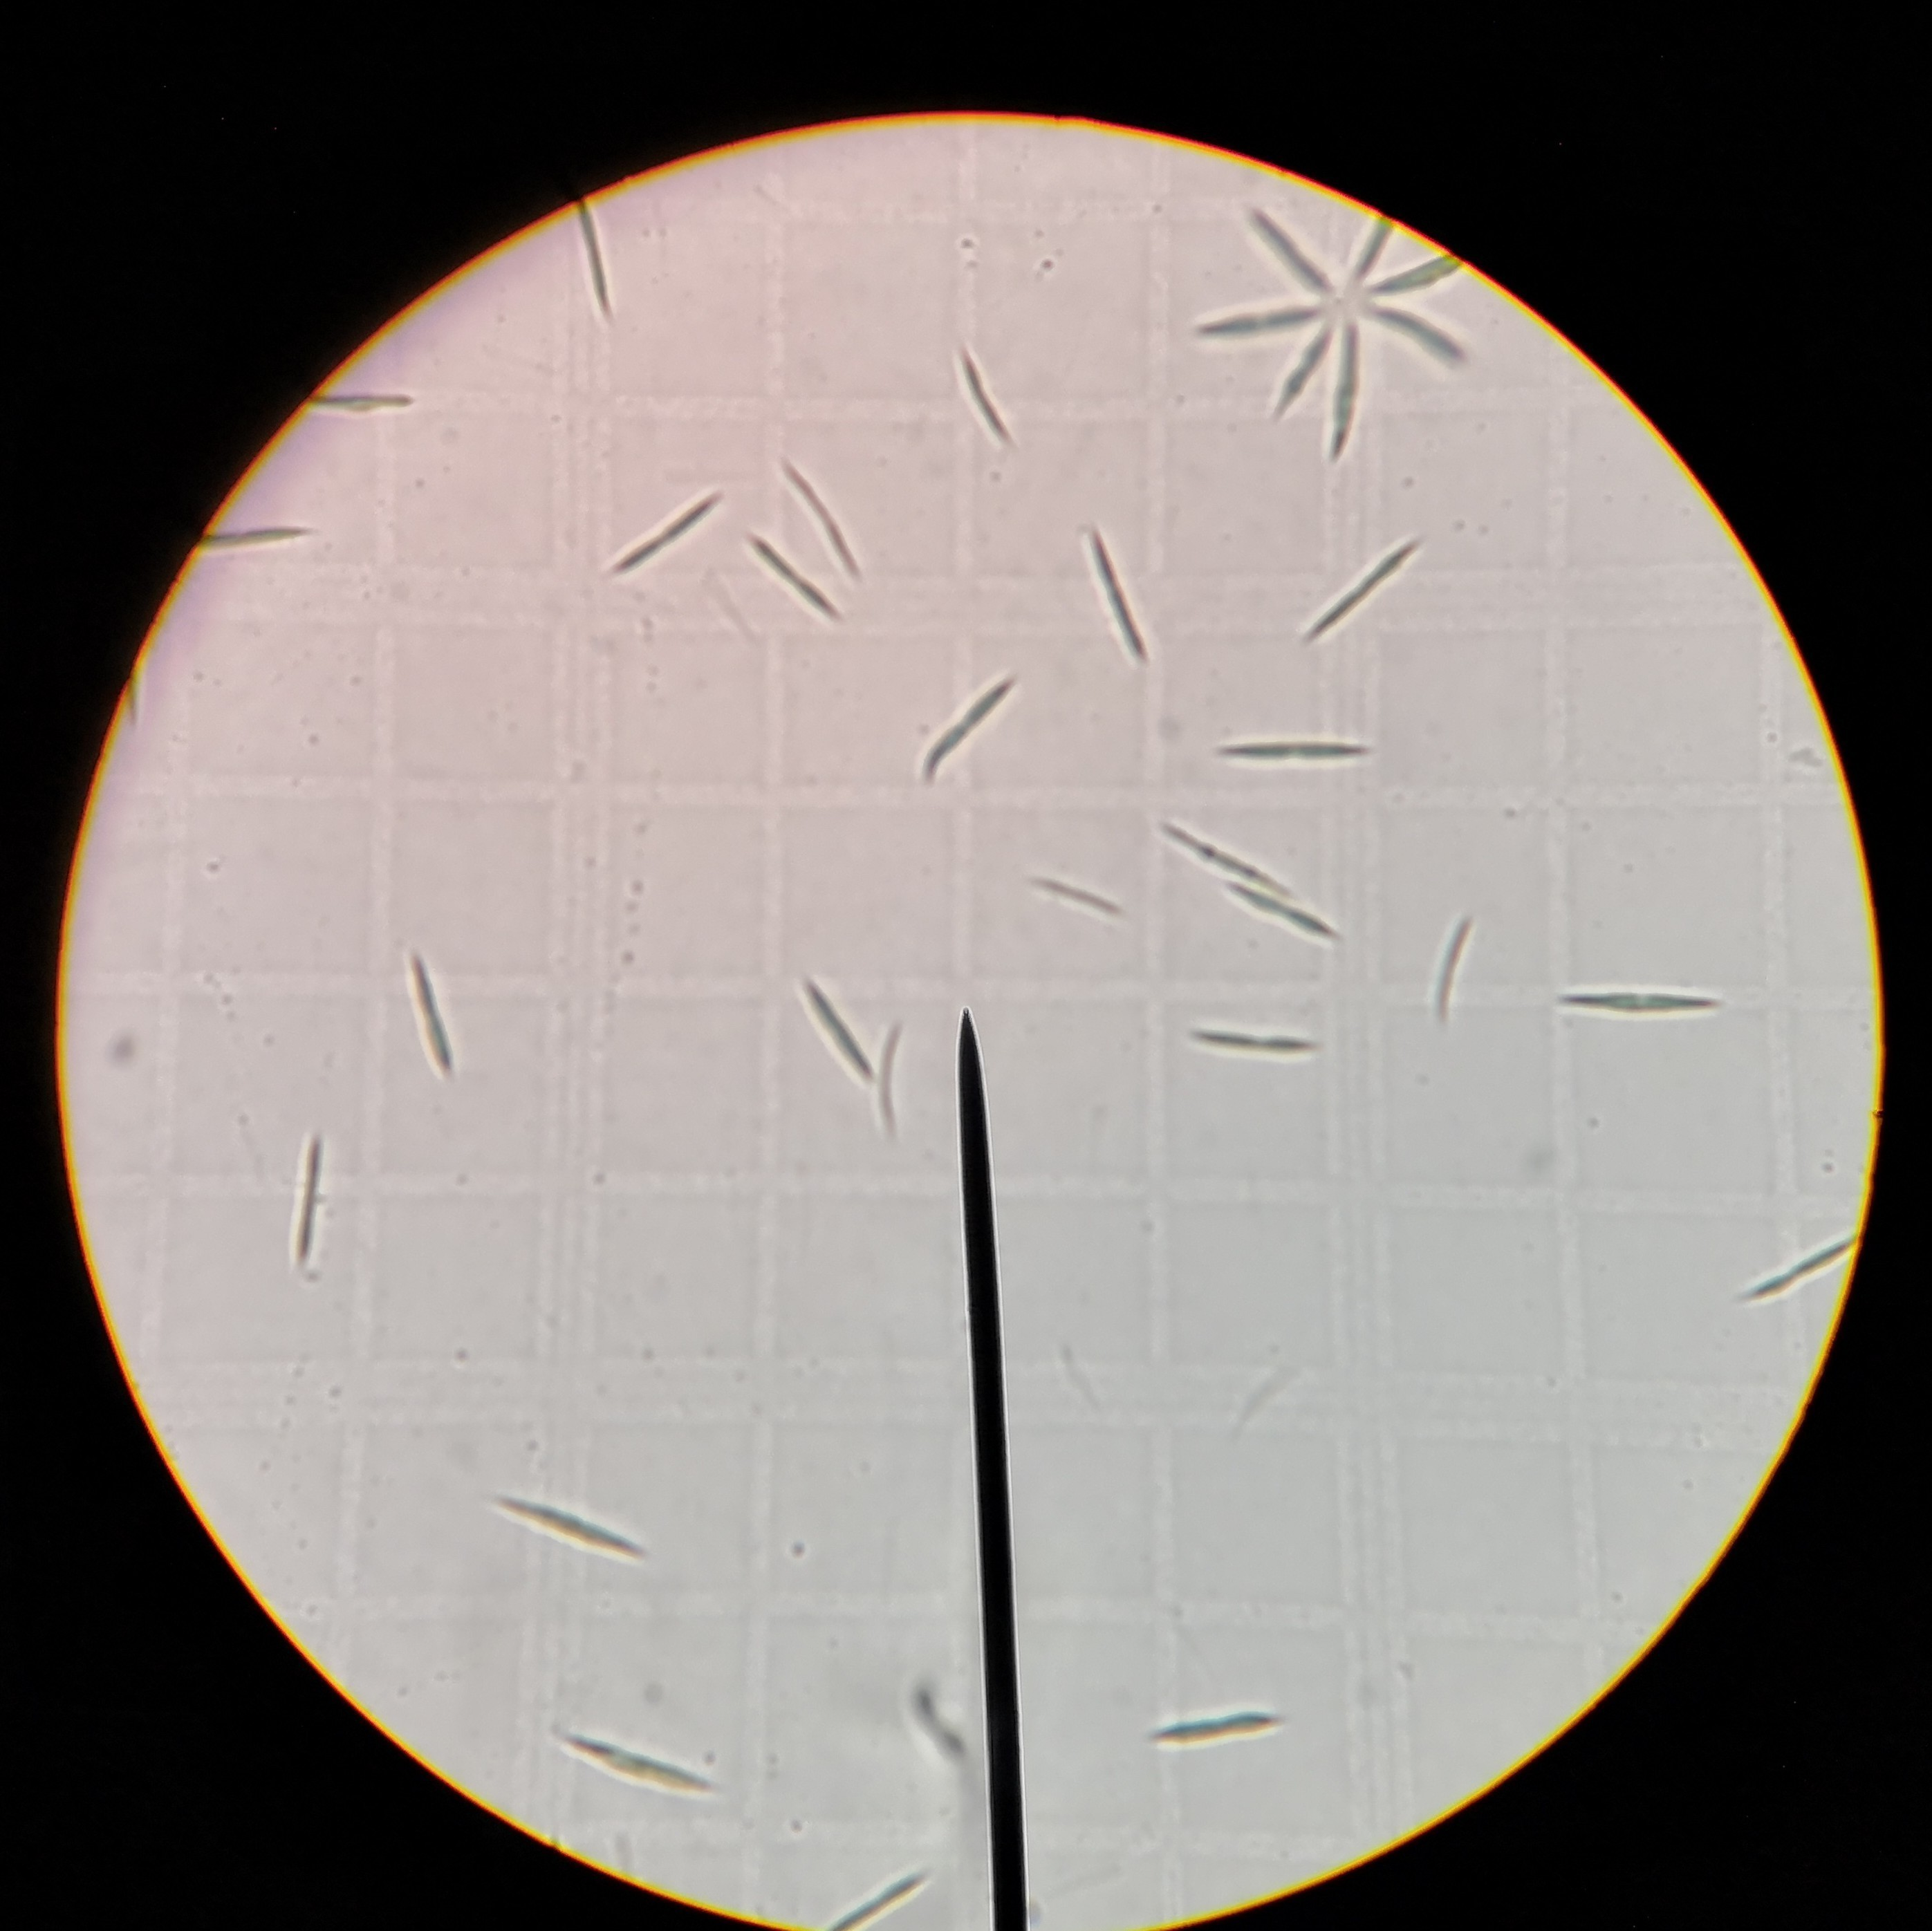Microalgae: (1283, 536, 1415, 647), (1154, 805, 1295, 900), (494, 1492, 649, 1572), (1070, 530, 1155, 661), (561, 1722, 711, 1795), (916, 674, 1019, 780), (745, 536, 847, 633), (1205, 723, 1378, 780), (609, 492, 725, 571), (786, 463, 858, 589), (1741, 1231, 1849, 1312), (798, 978, 874, 1089), (1543, 976, 1725, 1022), (938, 345, 1017, 447), (1260, 318, 1330, 431), (1352, 301, 1483, 355), (1228, 893, 1350, 950), (1318, 311, 1366, 451), (409, 951, 460, 1080), (1251, 219, 1341, 290), (196, 513, 317, 564), (1141, 1694, 1270, 1742), (1185, 1015, 1318, 1061), (306, 371, 428, 421), (1430, 909, 1477, 1029), (1362, 251, 1481, 299), (570, 209, 623, 308), (835, 1866, 929, 1917), (1033, 859, 1122, 911), (1187, 299, 1318, 331), (288, 1130, 318, 1263), (1352, 205, 1396, 283), (881, 1001, 901, 1155)
